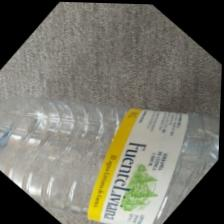plastic: (0, 33, 220, 223)
